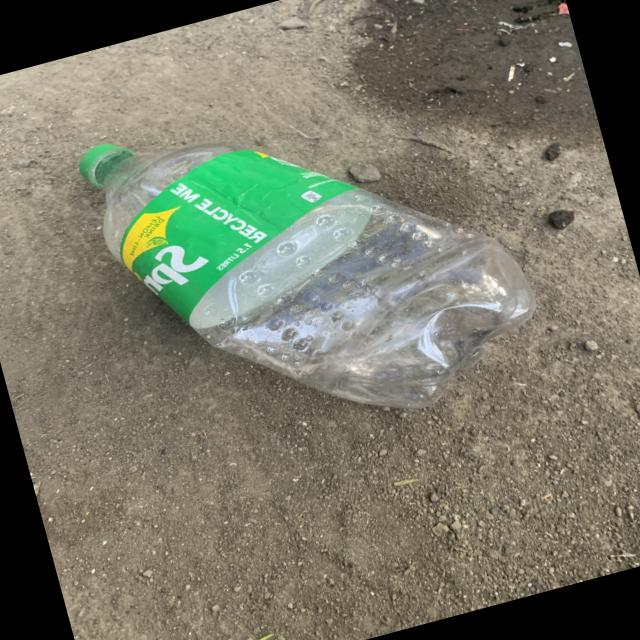Bottle: (79, 143, 535, 407)
